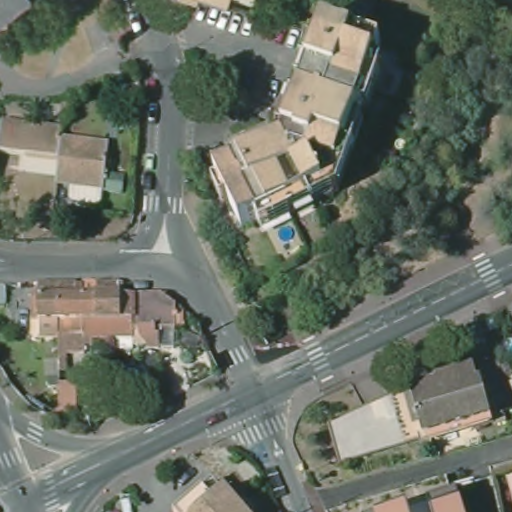pool: (274, 222, 297, 246)
